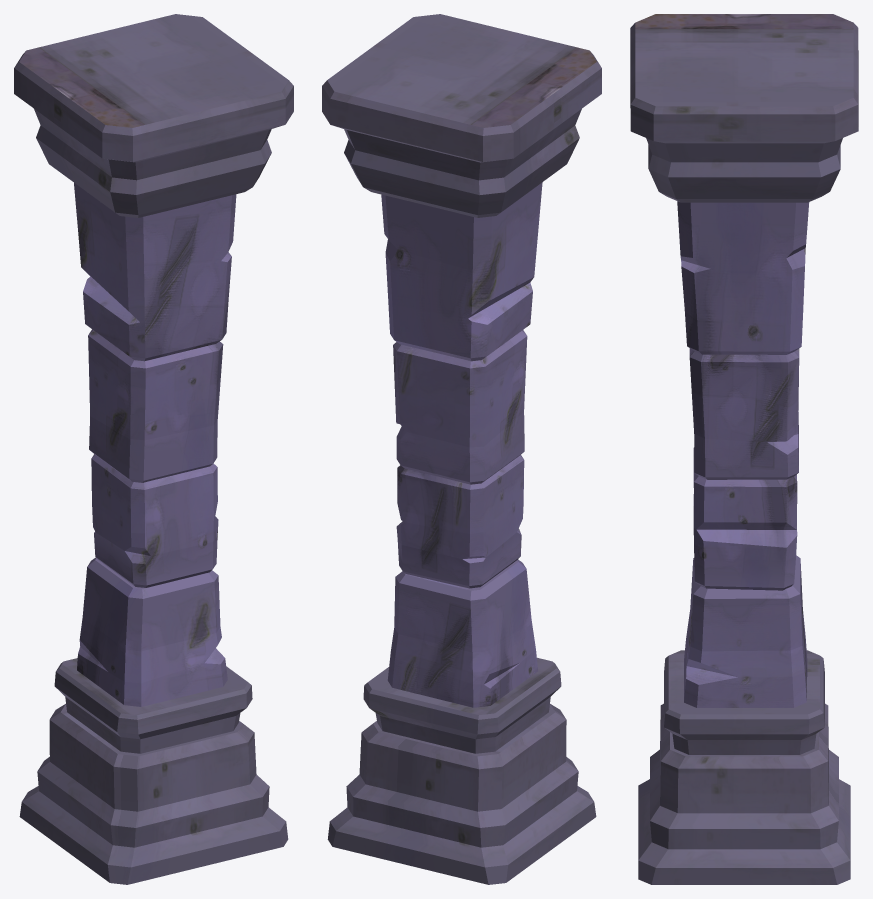
File: Column_01.fbx
The picture shows the model from 3 angles, left to right: view 1: azimuth 30°, elevation 25°; view 2: azimuth 150°, elevation 25°; view 3: azimuth 270°, elevation 25°; orthographic projection. The views are drawn at different scales.
Visible parts, largest first — view 1: Column_01; view 2: Column_01; view 3: Column_01.
Part boxes in pixels (box(x1,y1,x2,y2)): Column_01: box(14, 14, 293, 884); Column_01: box(322, 14, 601, 884); Column_01: box(630, 14, 858, 884).
Size of the model in its own units: 122 by 462 by 122.
